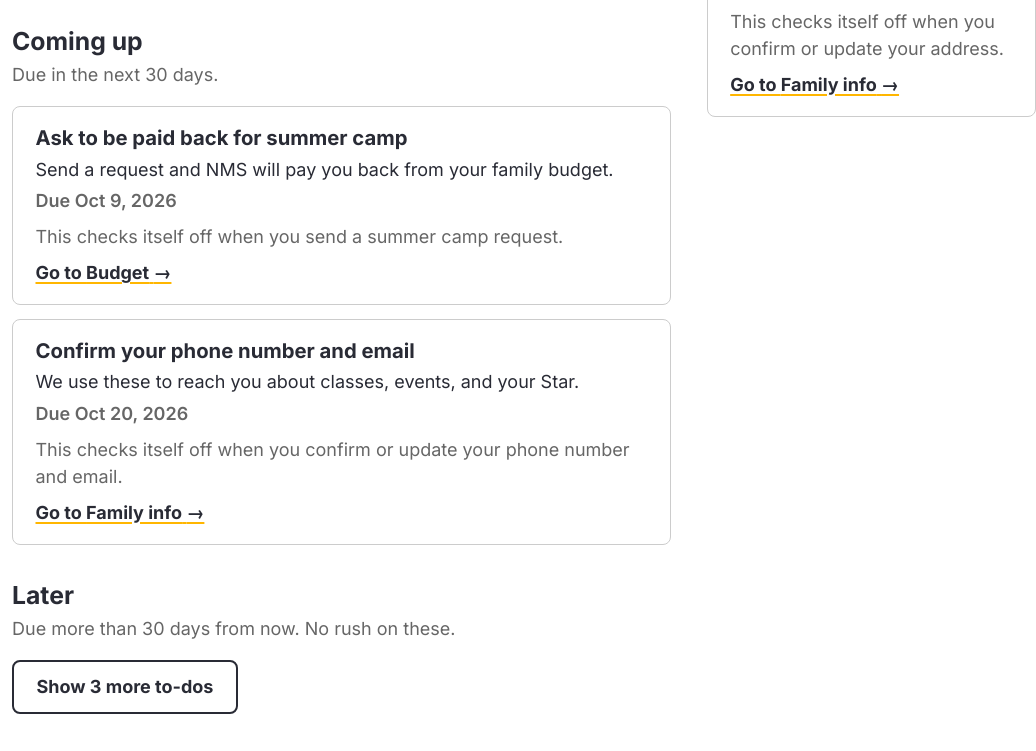
Scenario: TodosTab › expands and collapses Later with a button
(page scrolled)
What coordinates should you click on to do the following:
click the button "Show 3 more to-dos"
I would click on:
 (125, 687)
Its box is x1=12 y1=660 x2=238 y2=714.
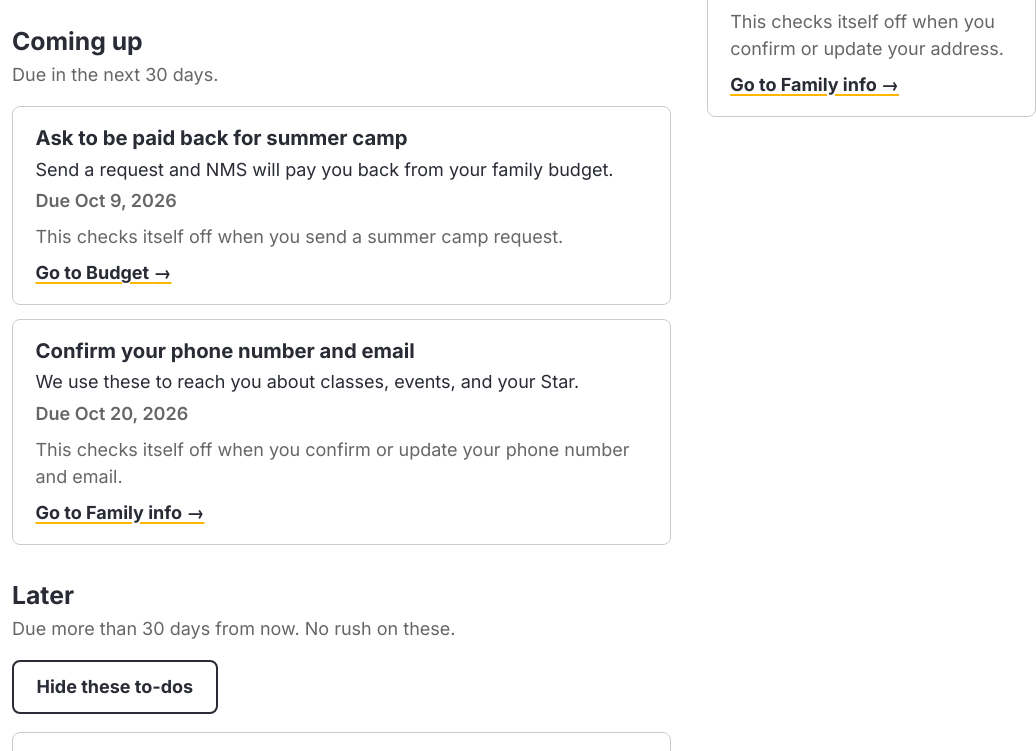
Expected: the button named "Show 3 more to-dos" is expanded
What coordinates should you click on to do the following:
click the button "Hide these to-dos"
I would click on:
 (115, 687)
Its box is x1=12 y1=660 x2=218 y2=714.
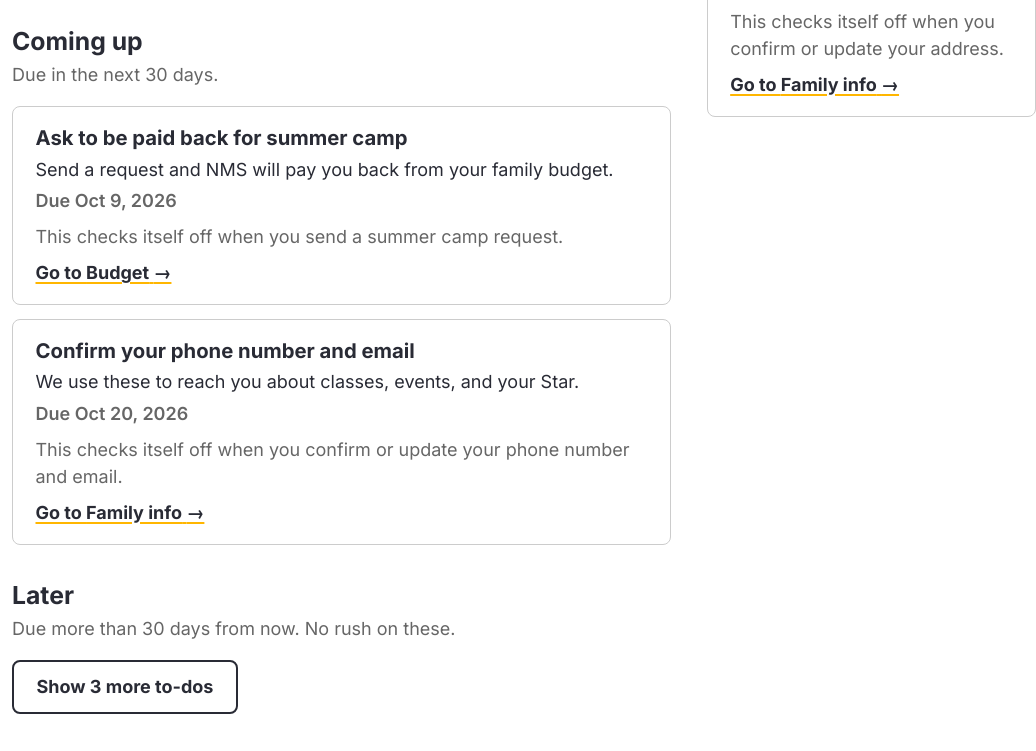
Expected: no the heading "Check your Star's school and grade" are shown
